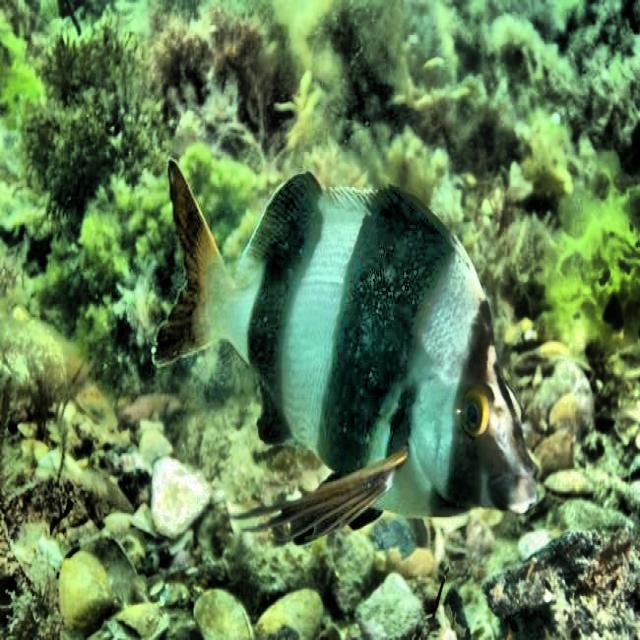fish: (151, 157, 540, 548)
